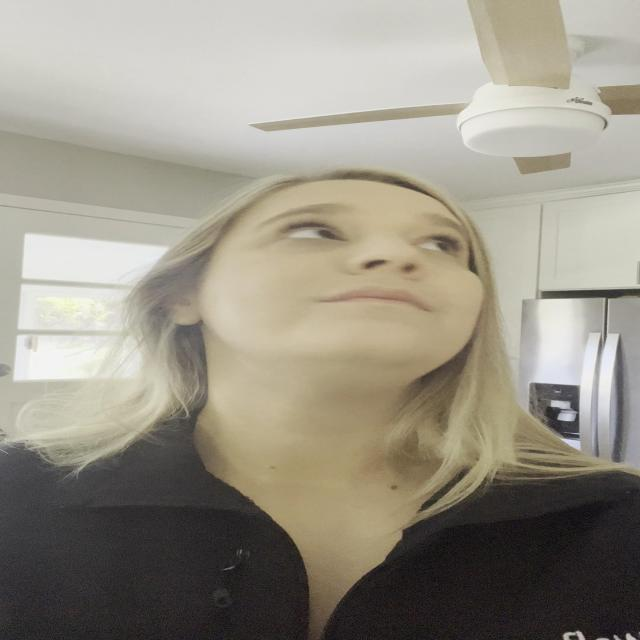no-helmet: (196, 178, 491, 388)
